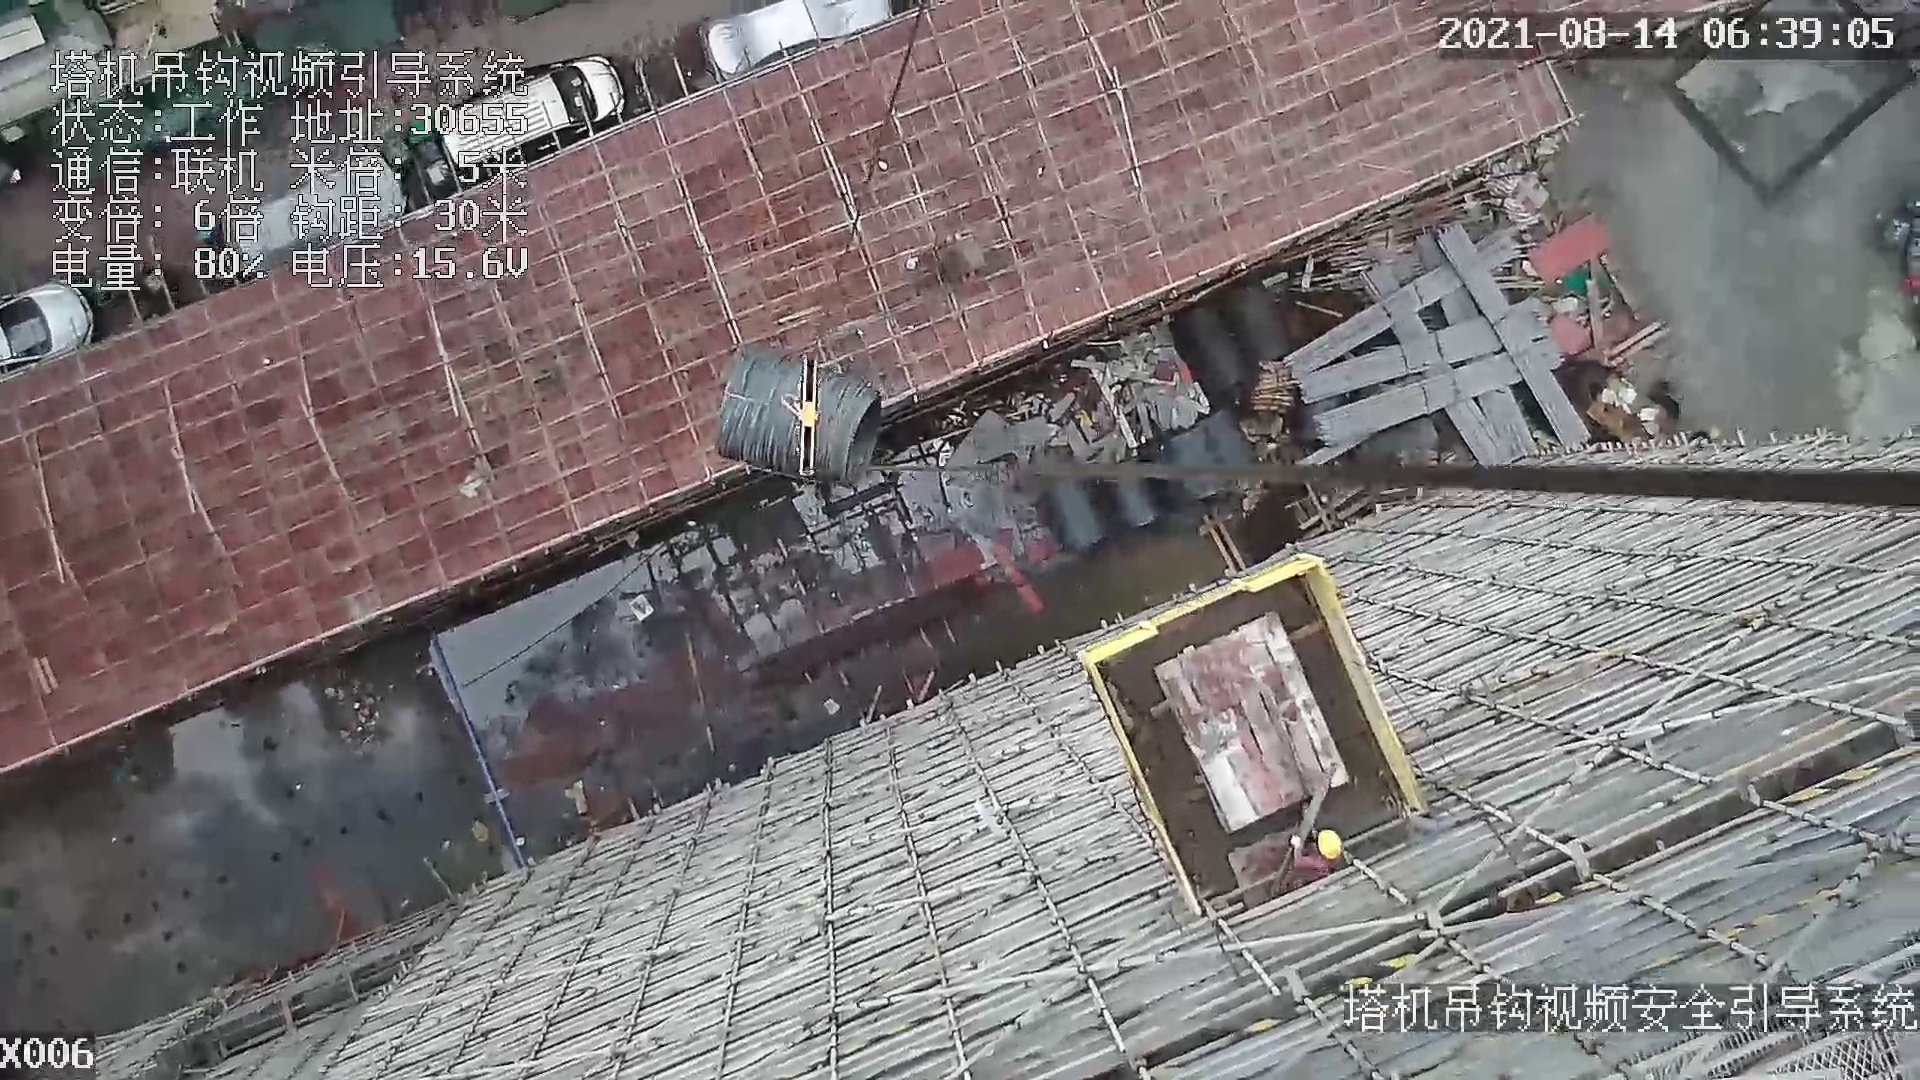helmet: (1314, 829, 1343, 859)
hook: (785, 354, 824, 487)
person: (1288, 826, 1351, 880)
